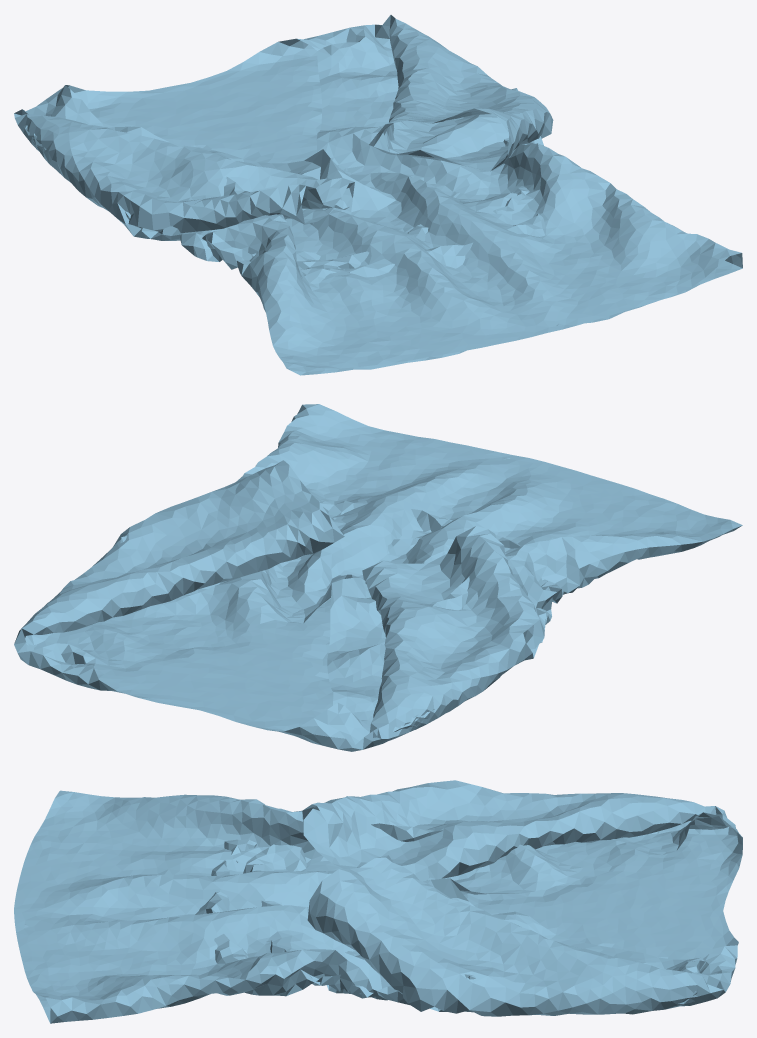
The model's file is frame_19.glb.
The picture shows the model from 3 angles, top to bottom: view 1: azimuth 30°, elevation 25°; view 2: azimuth 150°, elevation 25°; view 3: azimuth 270°, elevation 25°; orthographic projection. The views are drawn at different scales.
Parts seen in each view (by area): view 1: frame_19.obj; view 2: frame_19.obj; view 3: frame_19.obj.
Part boxes in pixels (x1=…): frame_19.obj: x1=14, y1=15, x2=742, y2=375; frame_19.obj: x1=14, y1=404, x2=742, y2=751; frame_19.obj: x1=14, y1=780, x2=742, y2=1023.
Bounding box in the file's own units: 1.16 × 0.2337 × 1.58.
